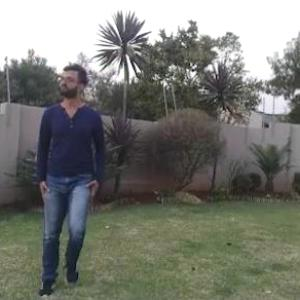follow: (28, 35, 110, 295)
